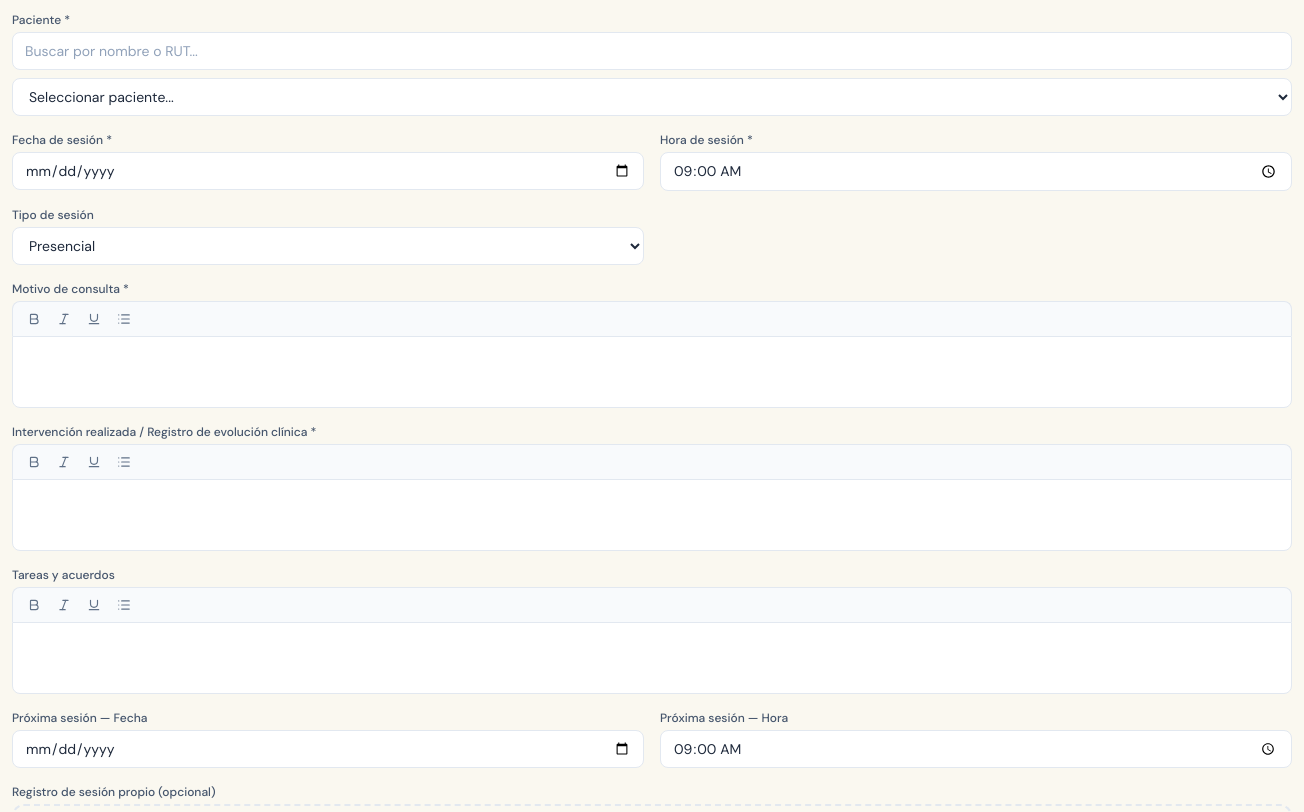
Test: ConsultationForm — búsqueda de pacientes en el servidor (#290) › panel de resultados › avisa cuando la búsqueda no tiene resultados
The width and height of the screenshot is (1304, 812).
Type "zzz" into the search field named "buscar paciente" at (652, 51), box x1=12 y1=32 x2=1292 y2=70
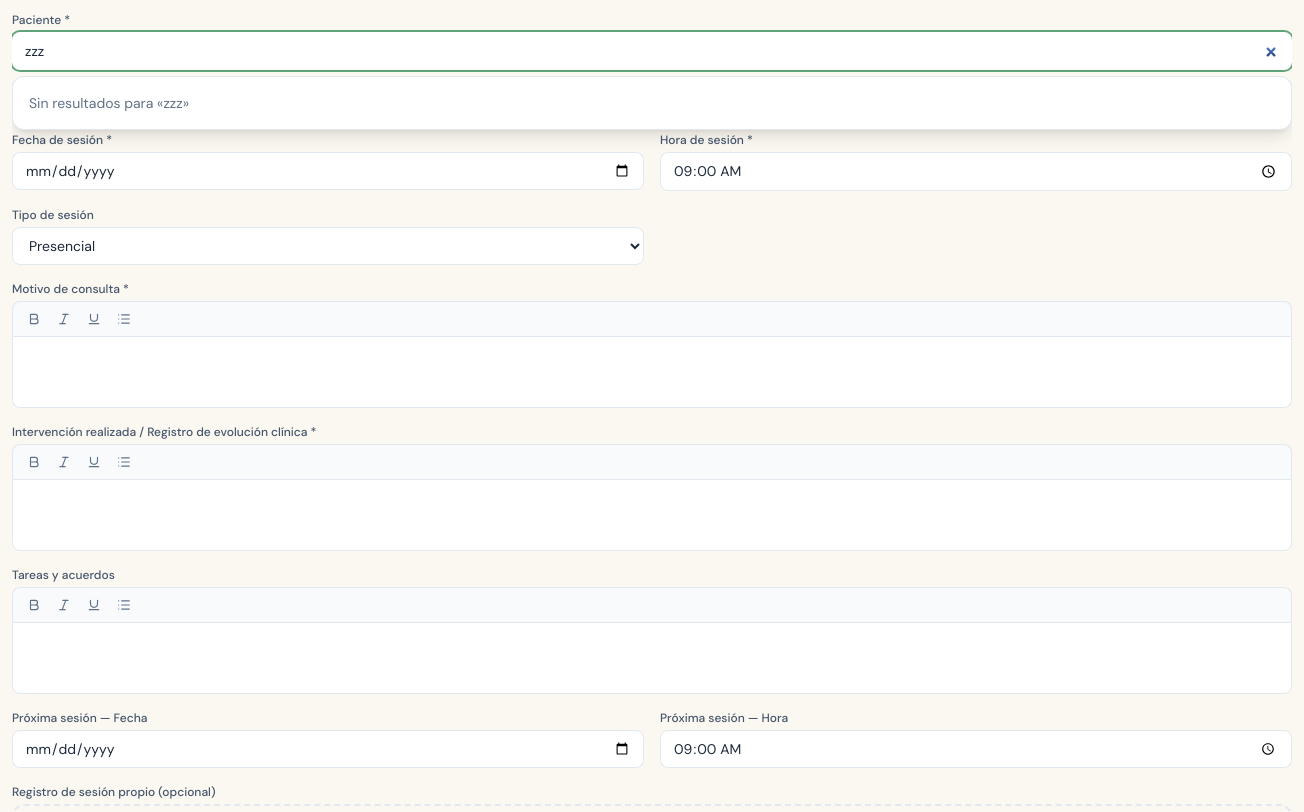
Expected: the text "Sin resultados para «zzz»" is shown, x1=29 y1=94 x2=189 y2=112
